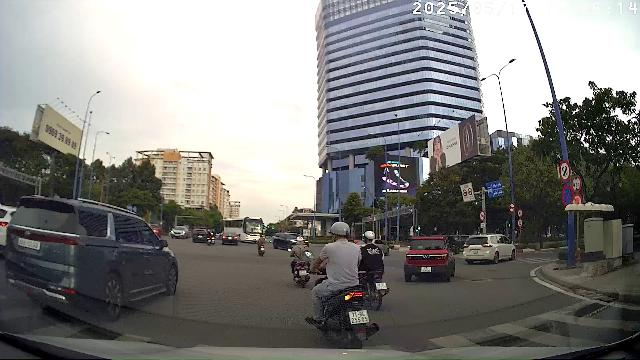127-toc-do-toi-da-50: (559, 160, 571, 182)
